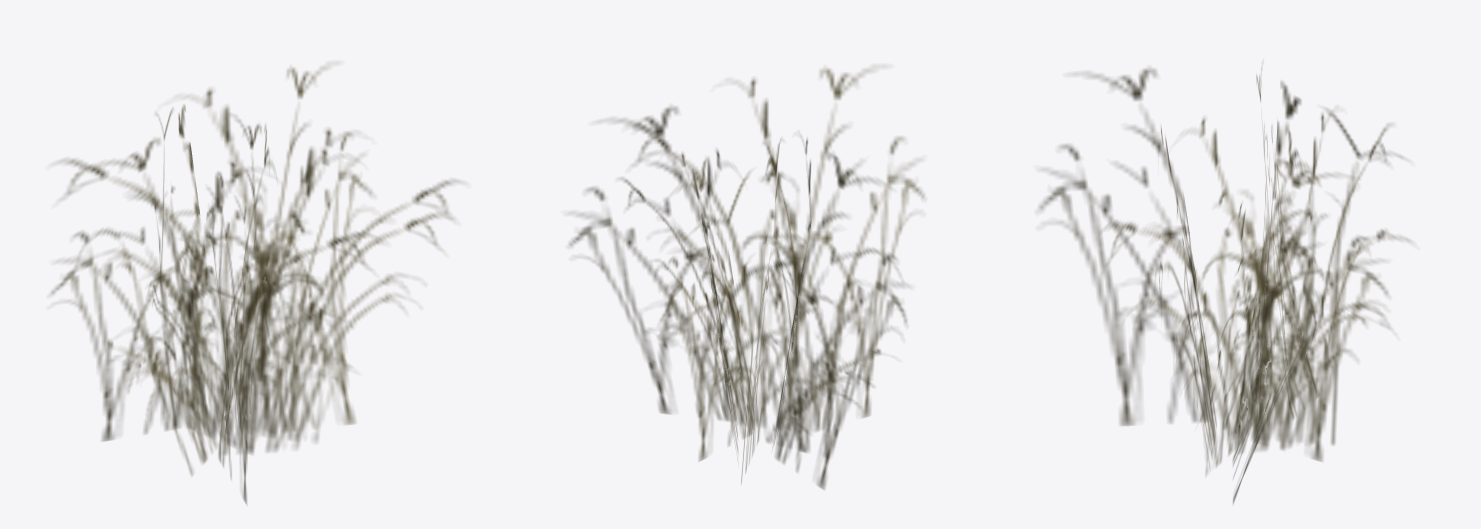
File: ichu_11.glb
3 renders of one model, left to right at view 1: azimuth 30°, elevation 25°; view 2: azimuth 150°, elevation 25°; view 3: azimuth 270°, elevation 25°, orthographic. The views are drawn at different scales.
Parts seen in each view (by area): view 1: Ichu; view 2: Ichu; view 3: Ichu.
Part boxes in pixels (<box>): Ichu: <box>51,64,460,504</box>; Ichu: <box>569,66,924,489</box>; Ichu: <box>1039,68,1410,503</box>.
Size of the model in its own units: 0.4269 by 0.43 by 0.4123.
1 material, 1 textured.
